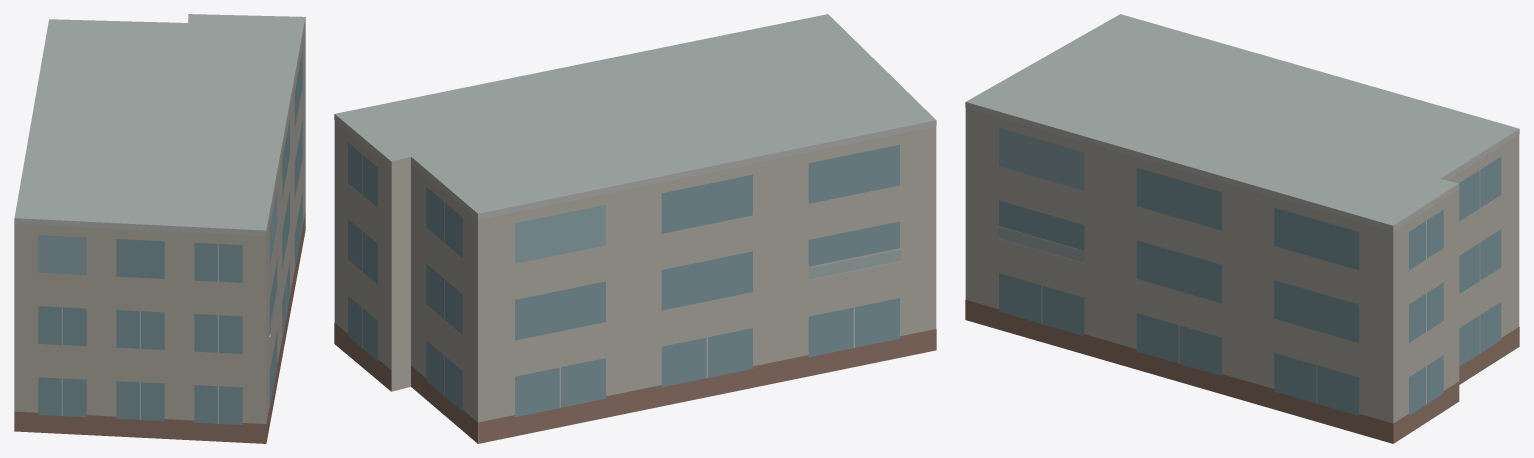
Rendered from survey-upis-32668928.glb.
3 renders of one model, left to right at view 1: azimuth 30°, elevation 25°; view 2: azimuth 150°, elevation 25°; view 3: azimuth 270°, elevation 25°, orthographic. The views are drawn at different scales.
Visible parts, largest first — view 1: survey-upis-32668928.tmp; view 2: survey-upis-32668928.tmp; view 3: survey-upis-32668928.tmp.
Part boxes in pixels (<box>): survey-upis-32668928.tmp: <box>14,14,305,443</box>; survey-upis-32668928.tmp: <box>334,14,936,443</box>; survey-upis-32668928.tmp: <box>965,14,1519,443</box>.
Size of the model in its own units: 19.07 by 9.15 by 21.07.
